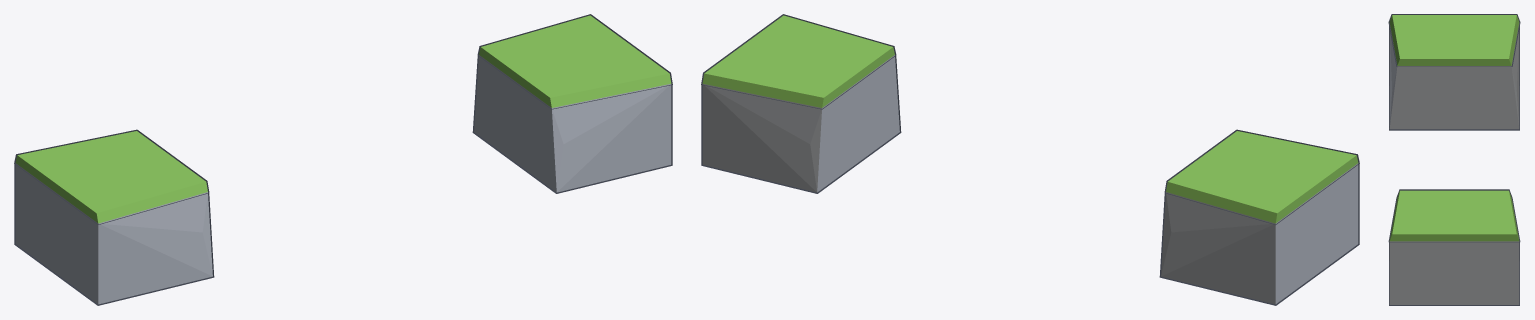
File: gap_cliffs.glb
3 views of the same model, side by side, from view 1: azimuth 30°, elevation 25°; view 2: azimuth 150°, elevation 25°; view 3: azimuth 270°, elevation 25° (orthographic). The views are drawn at different scales.
Visible parts, largest first — view 1: cliff_left, cliff_right, ink_outline (×2); view 2: cliff_left, cliff_right, ink_outline (×2); view 3: cliff_left, cliff_right, ink_outline (×2).
Part boxes in pixels (x1,y1,x2,y2): cliff_left: [15, 131, 212, 304]; cliff_right: [474, 15, 671, 192]; ink_outline (×2): [14, 14, 672, 305]; cliff_left: [1161, 131, 1358, 304]; cliff_right: [702, 15, 899, 192]; ink_outline (×2): [701, 14, 1359, 305]; cliff_left: [1389, 15, 1519, 129]; cliff_right: [1389, 190, 1519, 304]; ink_outline (×2): [1388, 14, 1520, 305].
Size of the model in its own units: 0.4012 by 0.0612 by 0.1018.
